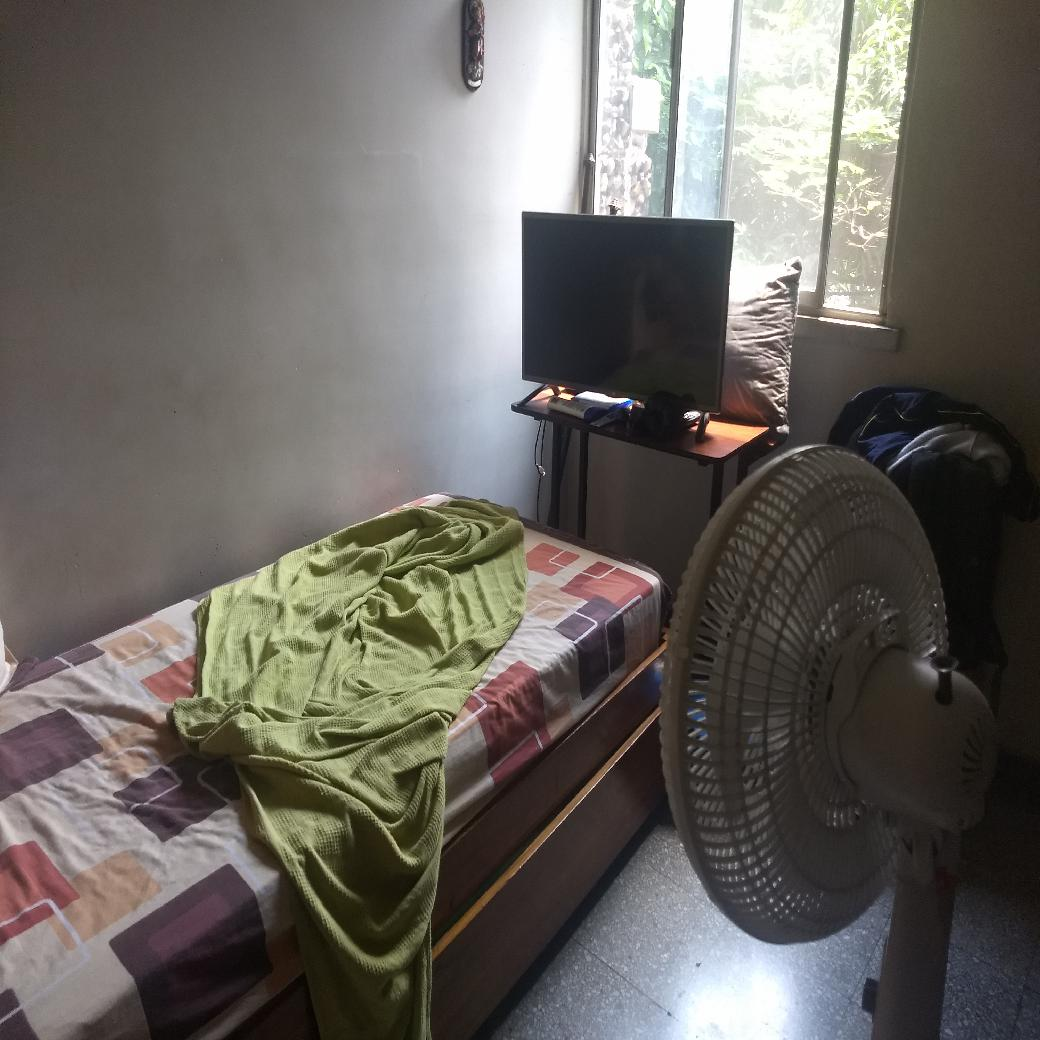tv: (521, 210, 721, 416)
ventilador: (661, 454, 991, 951)
